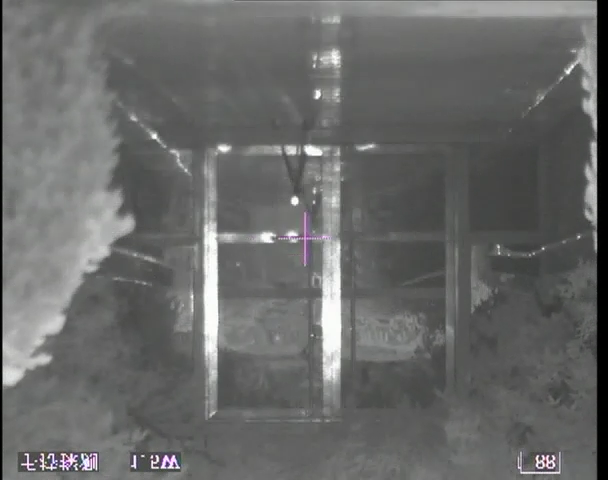my: (289, 195, 301, 207)
